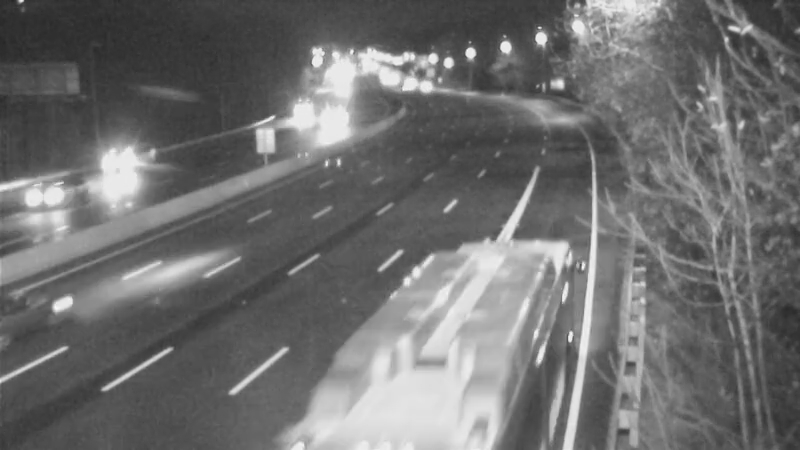vehicle: (369, 342, 479, 450), (1, 251, 98, 361), (76, 132, 156, 212), (307, 98, 357, 148), (273, 84, 323, 134)
